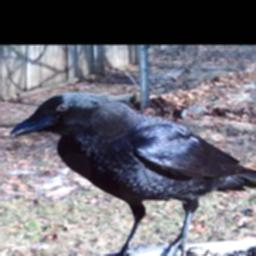Crow: (10, 92, 256, 256)
